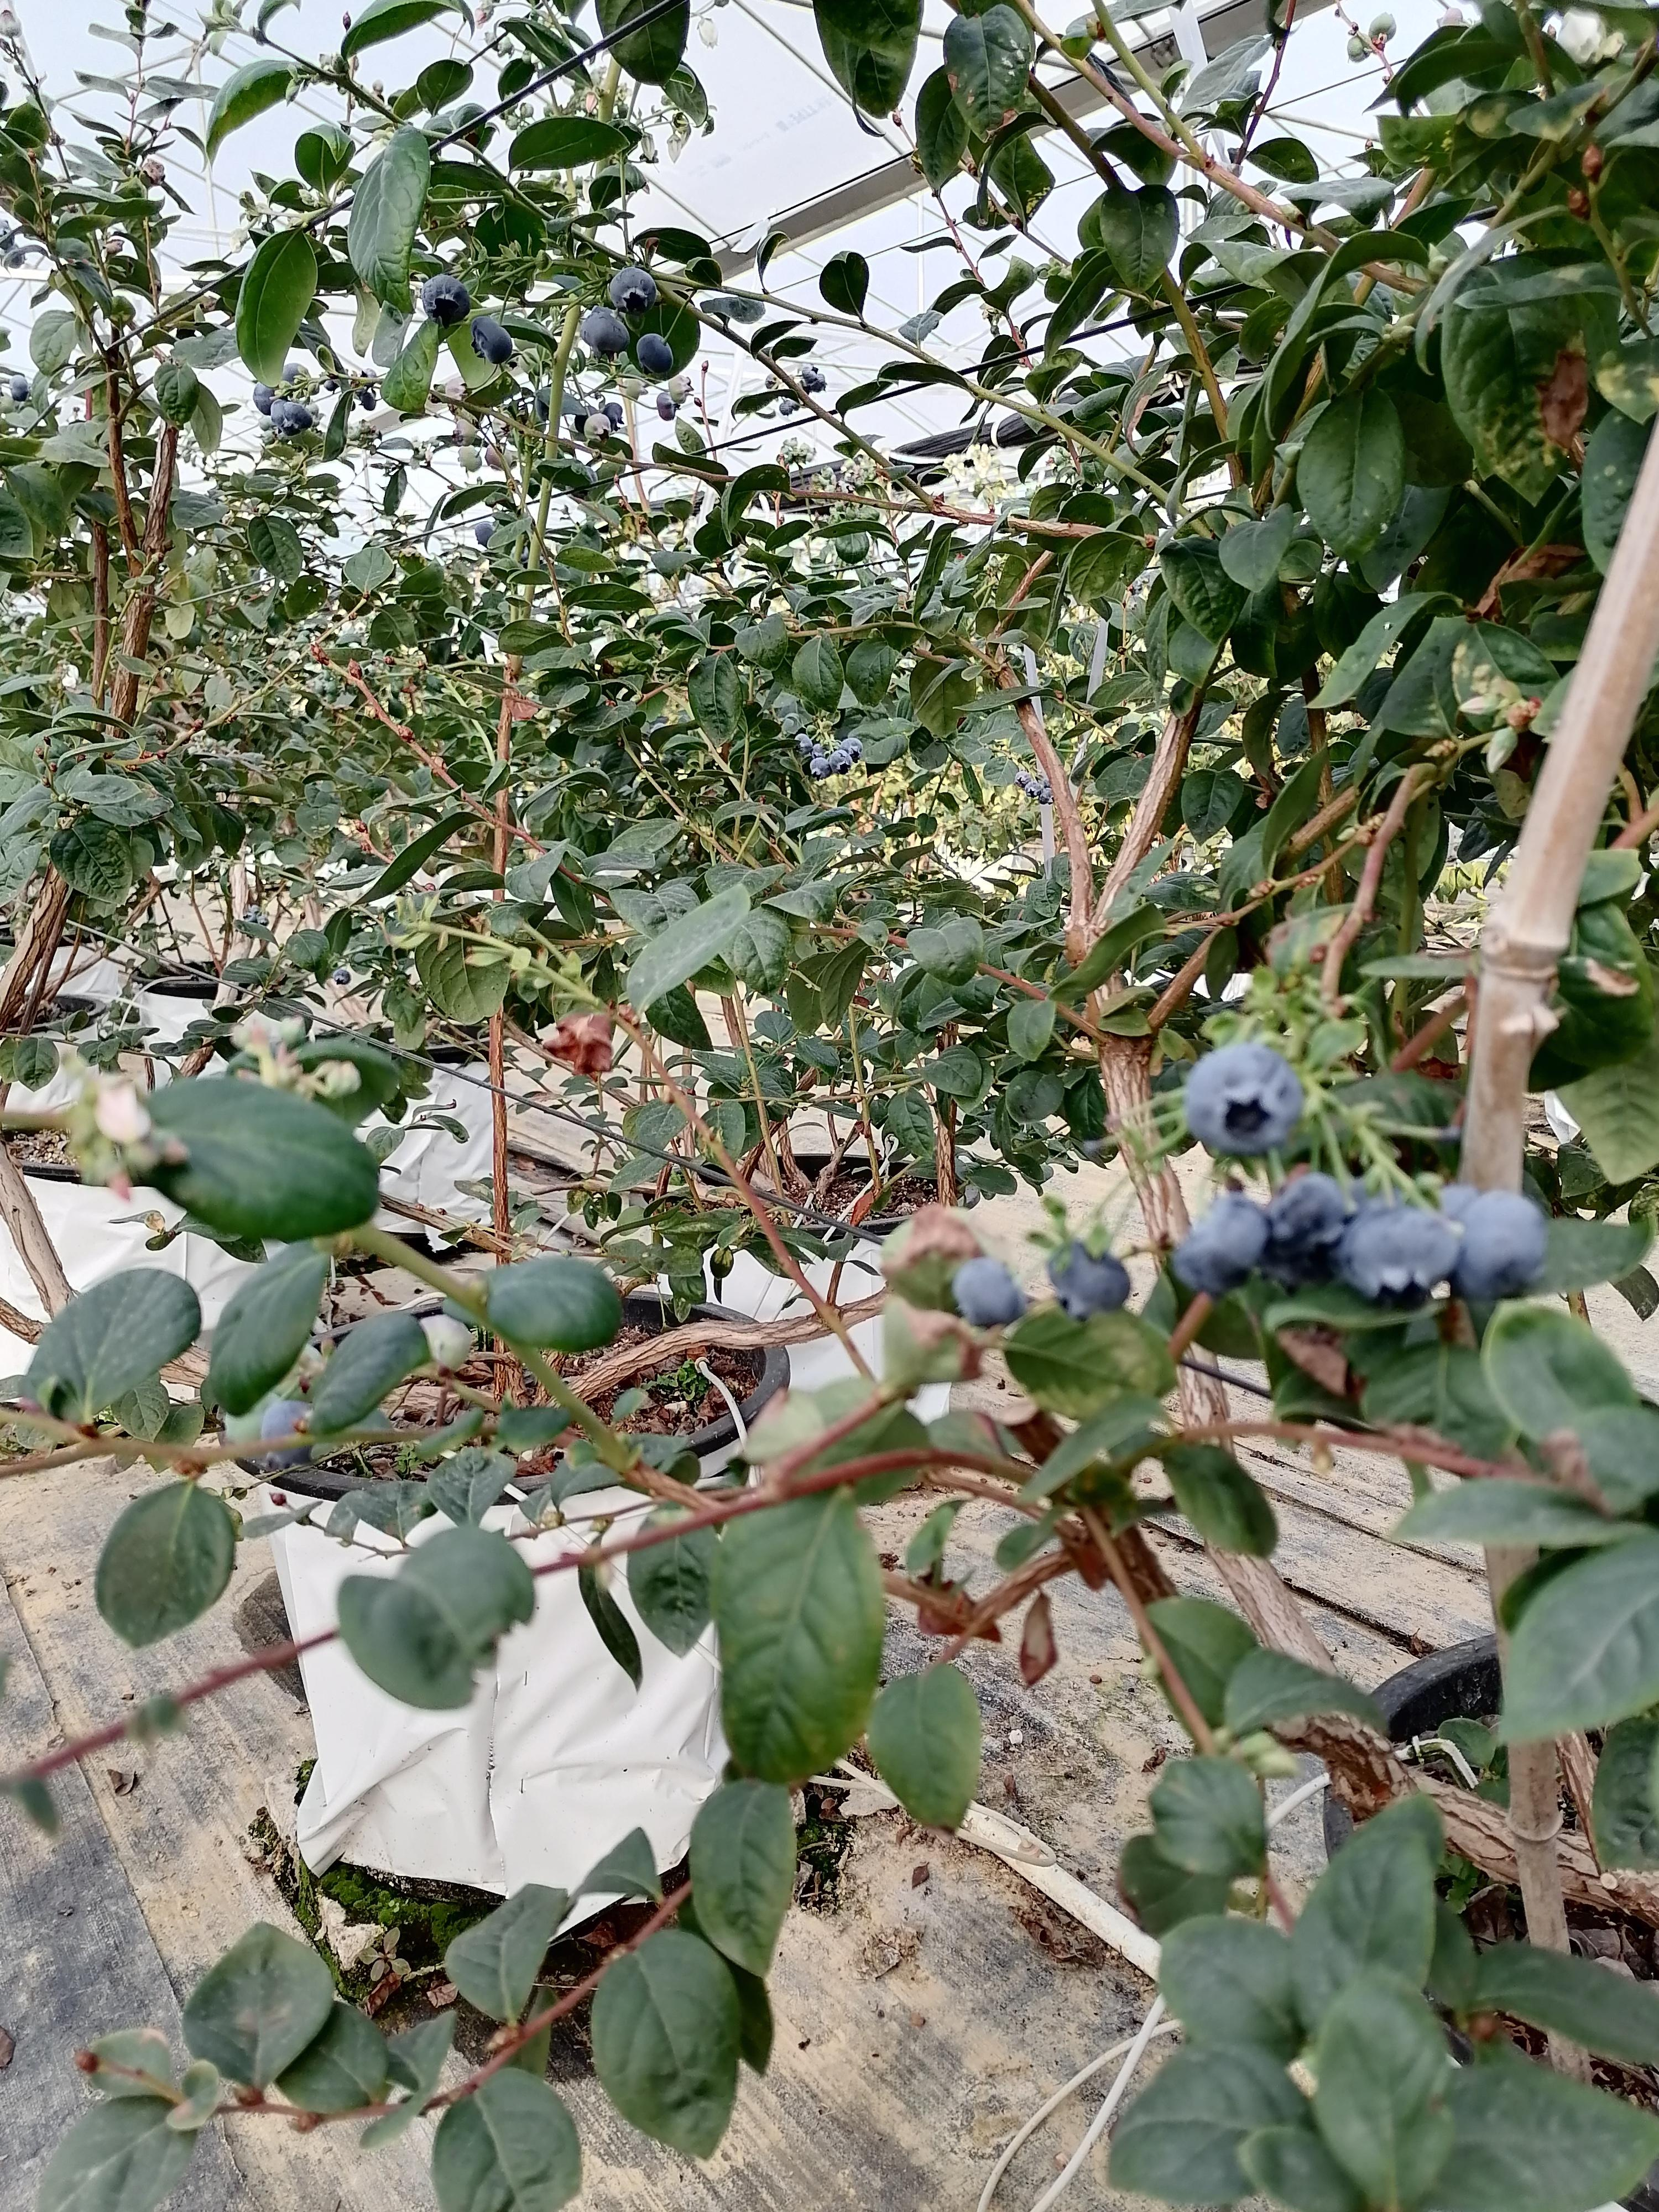ripe-blueberries: (1182, 1043, 1303, 1158), (1333, 1207, 1460, 1308), (1452, 1190, 1553, 1305), (1171, 1190, 1270, 1296), (1270, 1169, 1344, 1264), (1049, 1242, 1129, 1320), (953, 1258, 1023, 1327), (261, 1400, 317, 1465), (1263, 1249, 1335, 1296), (418, 273, 471, 329), (580, 312, 631, 361), (1345, 1179, 1410, 1214), (610, 266, 655, 315), (472, 315, 512, 364), (1443, 1181, 1483, 1224), (638, 334, 673, 374), (268, 399, 298, 435), (281, 402, 312, 430), (281, 362, 310, 390), (253, 383, 277, 416), (603, 402, 624, 434), (830, 749, 852, 777), (3, 244, 28, 268), (840, 737, 863, 763), (10, 374, 31, 402), (472, 523, 493, 549), (810, 758, 831, 780), (0, 219, 14, 249), (802, 364, 819, 385), (795, 733, 812, 754), (810, 374, 828, 394), (1039, 787, 1056, 805), (361, 394, 376, 411), (1014, 772, 1032, 787), (1025, 782, 1042, 798), (333, 970, 350, 986), (810, 744, 826, 759), (779, 401, 793, 416), (242, 913, 258, 923), (258, 916, 270, 927), (537, 282, 568, 284)
